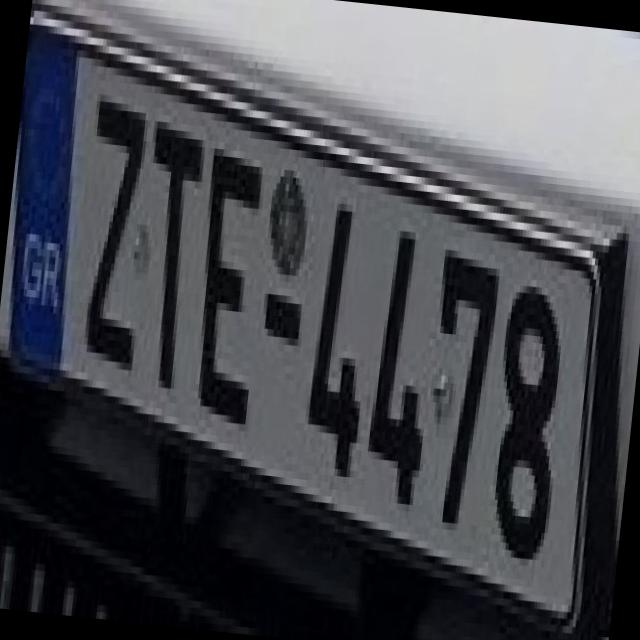4: (290, 180, 386, 478), (350, 208, 446, 498)
7: (410, 228, 510, 532)
8: (473, 262, 578, 560)
E: (170, 125, 275, 424)
T: (124, 100, 215, 390)
Z: (60, 79, 161, 370)
